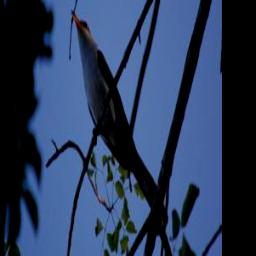Cuckoo: (69, 5, 156, 201)
